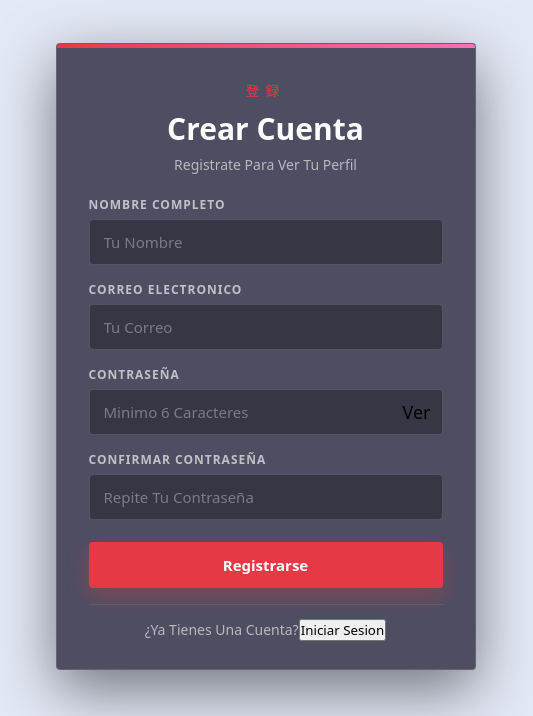
[+] Si La Contrasenia Tiene Menos De 6 Caracteres Muestra Error
The image size is (533, 716).
Step 1. Type "Isam Mejias" into the field labelled "Nombre Completo" → (266,242), box [88,218,442,264]
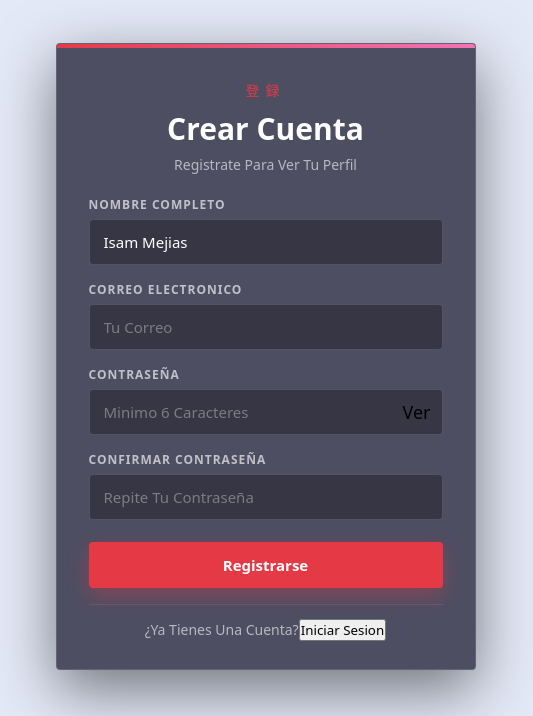
Step 2. Type "isam.mejias@gmail.hax" into the field labelled "Correo Electronico" → (266,326), box [88,304,442,350]
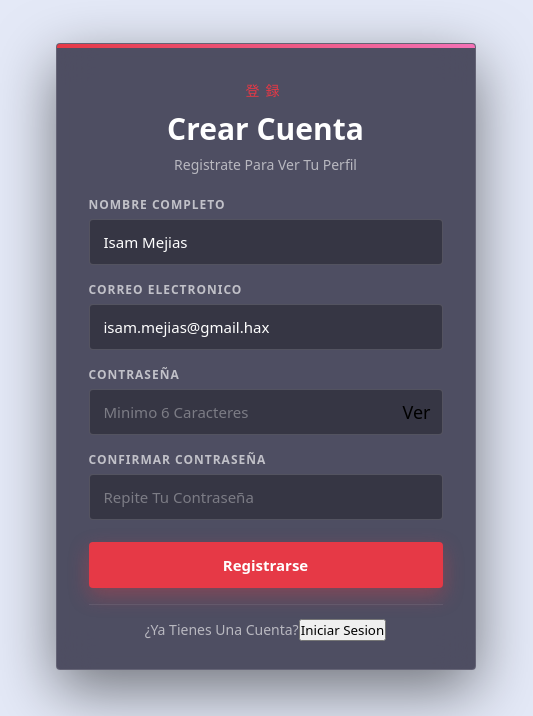
Step 3. Type "000" into the password field labelled "Contraseña Ver" → (266,412), box [88,388,442,434]
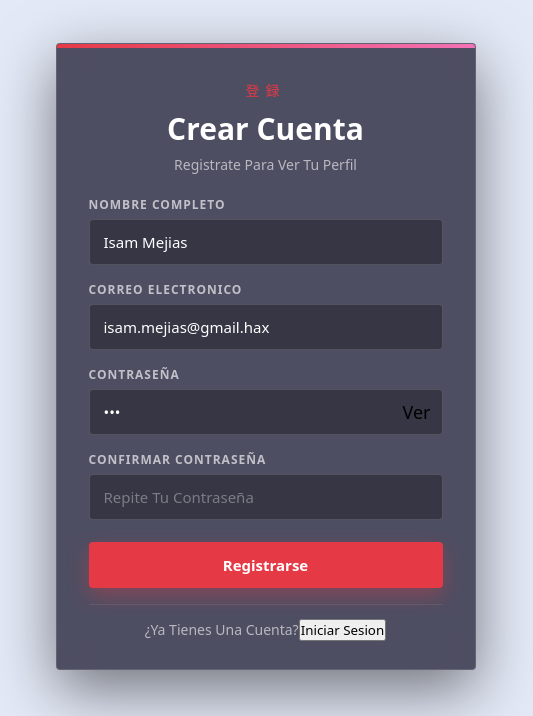
Step 4. Type "000" into the password field labelled "Confirmar Contraseña" → (266,496), box [88,474,442,520]
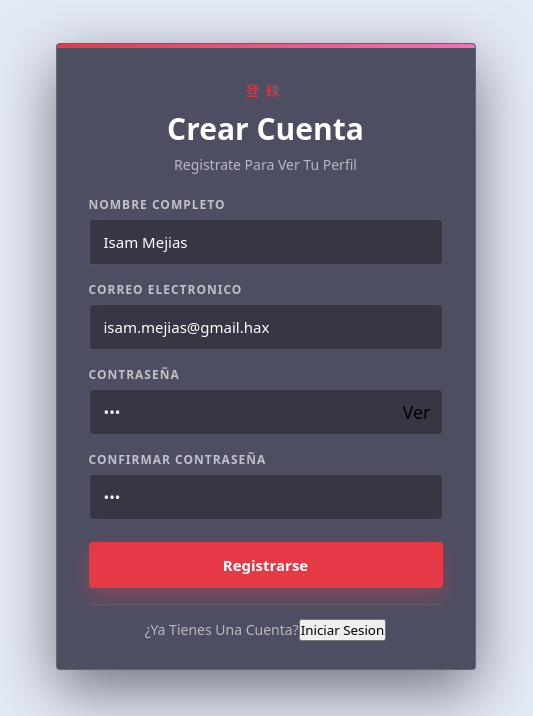
Step 5. Submit the form
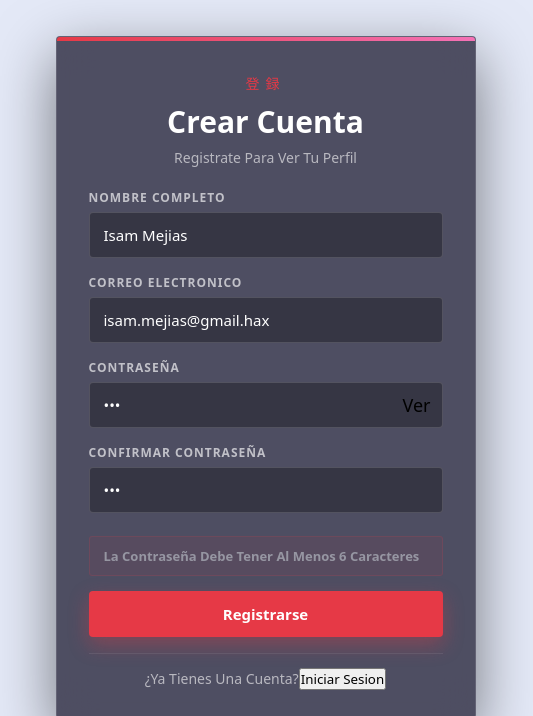
Result: the text "La Contraseña Debe Tener Al Menos 6 Caracteres" is shown at [88,536,442,576]
